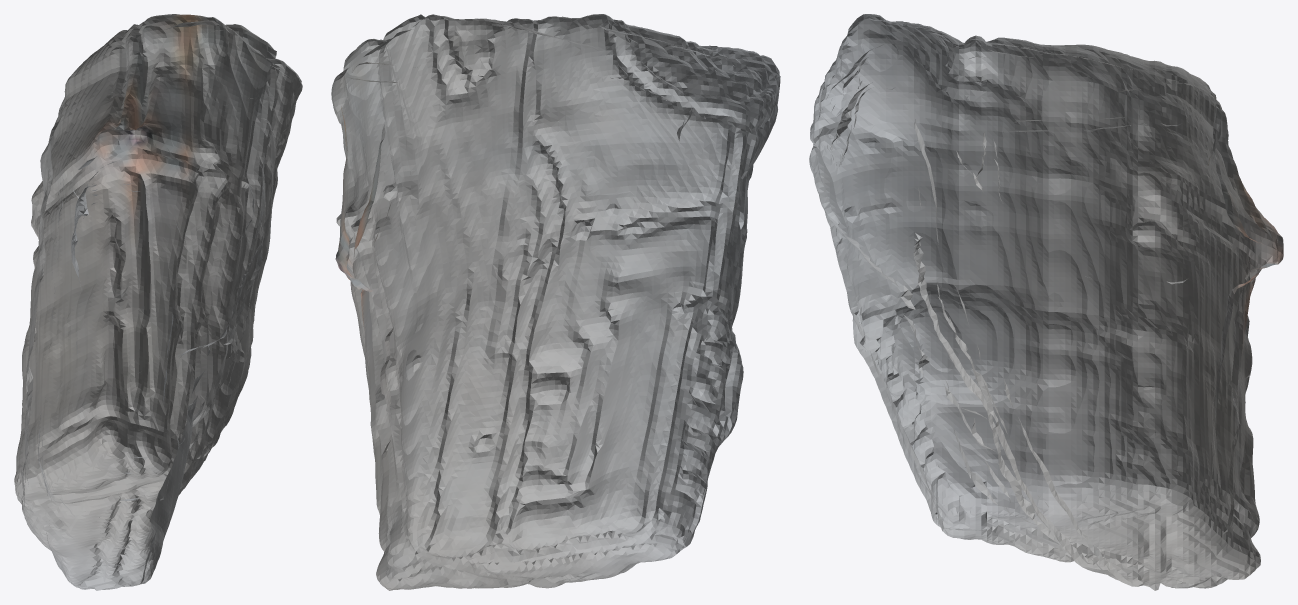
The picture shows the model from 3 angles, left to right: view 1: azimuth 30°, elevation 25°; view 2: azimuth 150°, elevation 25°; view 3: azimuth 270°, elevation 25°; orthographic projection. The views are drawn at different scales.
Parts seen in each view (by area): view 1: world; view 2: world; view 3: world.
Part boxes in pixels (left/top/right/bottom): world: left=14, top=14, right=302, bottom=590; world: left=331, top=14, right=780, bottom=590; world: left=809, top=14, right=1283, bottom=590.
Size of the model in its own units: 0.4507 by 0.6995 by 0.5777.
